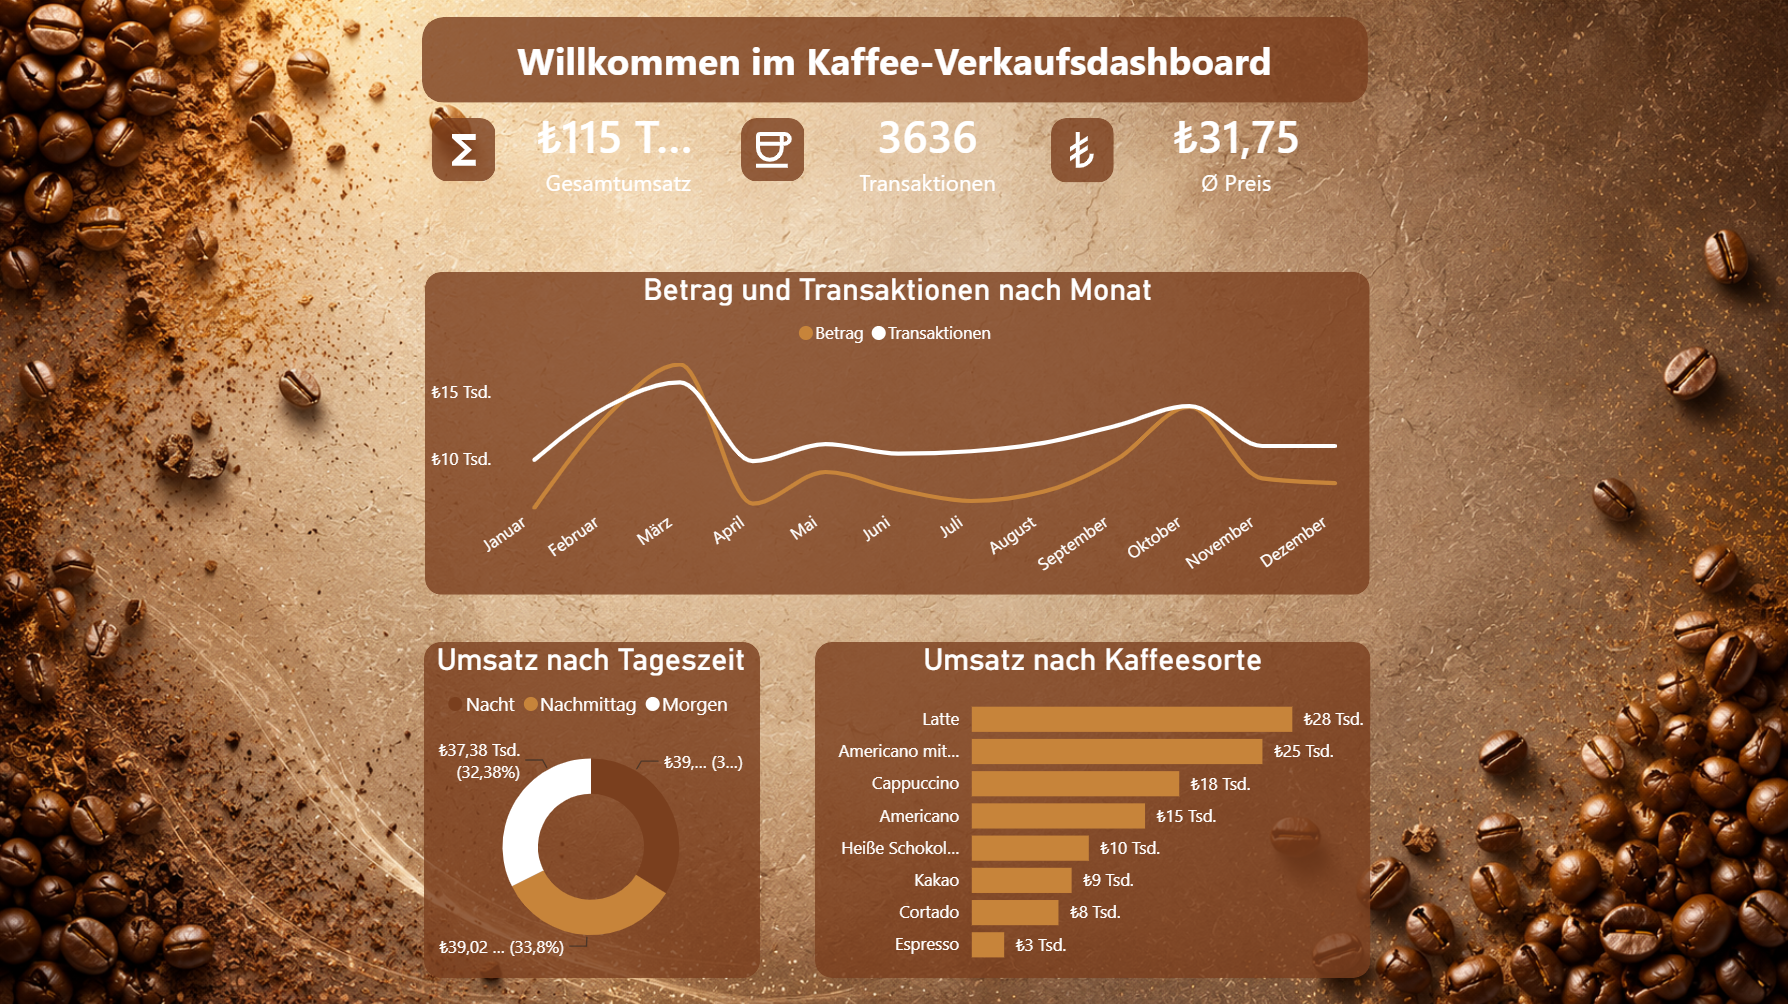

Layout of this report page (visuals, bound fields, positions):
{"tool":"powerbi","page":{"name":"Page 1","canvas":[1280,720],"ordinal":0},"visuals":[{"type":"shape","box":[302.4,12.3,675.6,61.4],"z":0},{"type":"shape","box":[309.4,84.4,45.5,45.5],"z":0},{"type":"textbox","box":[359.2,19.1,560.8,46.6],"z":1000},{"type":"cardVisual","fields":{"Data":["Sum(Table_1.money)"]},"box":[354.9,57.1,175.2,100.1],"z":1000},{"type":"shape","box":[530,84.4,45.5,45.5],"z":2000},{"type":"image","box":[315.1,90,34.1,34.1],"z":3000},{"type":"shape","box":[304.1,194.2,674.8,230.5],"z":3000},{"type":"cardVisual","fields":{"Data":["CountNonNull(Table_1.coffee_name)"]},"box":[575.5,57.1,175.2,100.1],"z":4000},{"type":"lineChart","title":"Betrag und Transaktionen nach Monat","fields":{"Category":["Table_1.Monat"],"Y":["Sum(Table_1.money)"],"Y2":["CountNonNull(Table_1.coffee_name)"]},"box":[303.3,194.2,676.6,230.5],"z":4000},{"type":"image","box":[535.2,89.8,34.3,34.3],"z":5000},{"type":"shape","box":[303.7,458.4,240,240],"z":5000},{"type":"shape","box":[751.4,84.6,44.8,46.1],"z":6000},{"type":"donutChart","title":"Umsatz nach Tageszeit","fields":{"Category":["Table_1.Tageszeit"],"Y":["Sum(Table_1.money)"]},"box":[303.2,458.7,239.9,239.9],"z":6000},{"type":"cardVisual","fields":{"Data":["Avg(Table_1.money)"]},"box":[796.2,56.9,175.3,100.2],"z":7000},{"type":"shape","box":[582.7,458.7,396.8,239.9],"z":7000},{"type":"image","box":[756.4,90,34.1,34.1],"z":8000},{"type":"clusteredBarChart","title":"Umsatz nach Kaffeesorte","fields":{"Category":["Table_1.Kaffeesorte"],"Y":["Sum(Table_1.money)"]},"box":[582.7,458.7,396.8,239.9],"z":8000}]}

Visuals, with their boxes in screenshot pixels (x1, y1, x2, y2), scaled from the page's 1280x720 canvas onto the 1788x1004 screenshot:
shape: x1=422 y1=17 x2=1366 y2=103
shape: x1=432 y1=118 x2=496 y2=181
textbox: x1=502 y1=27 x2=1285 y2=92
cardVisual - Sum(Table_1.money): x1=496 y1=80 x2=740 y2=219
shape: x1=740 y1=118 x2=804 y2=181
image: x1=440 y1=126 x2=488 y2=173
shape: x1=425 y1=271 x2=1367 y2=592
cardVisual - CountNonNull(Table_1.coffee_name): x1=804 y1=80 x2=1049 y2=219
"Betrag und Transaktionen nach Monat" lineChart: x1=424 y1=271 x2=1369 y2=592
image: x1=748 y1=125 x2=796 y2=173
shape: x1=424 y1=639 x2=759 y2=974
shape: x1=1050 y1=118 x2=1112 y2=182
"Umsatz nach Tageszeit" donutChart: x1=424 y1=640 x2=759 y2=974
cardVisual - Avg(Table_1.money): x1=1112 y1=79 x2=1357 y2=219
shape: x1=814 y1=640 x2=1368 y2=974
image: x1=1057 y1=126 x2=1104 y2=173
"Umsatz nach Kaffeesorte" clusteredBarChart: x1=814 y1=640 x2=1368 y2=974
